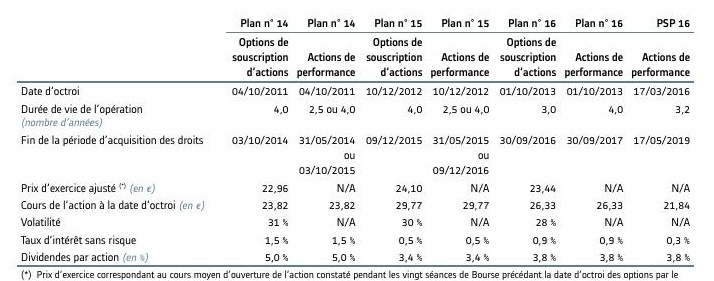table: (0, 0, 714, 281)
